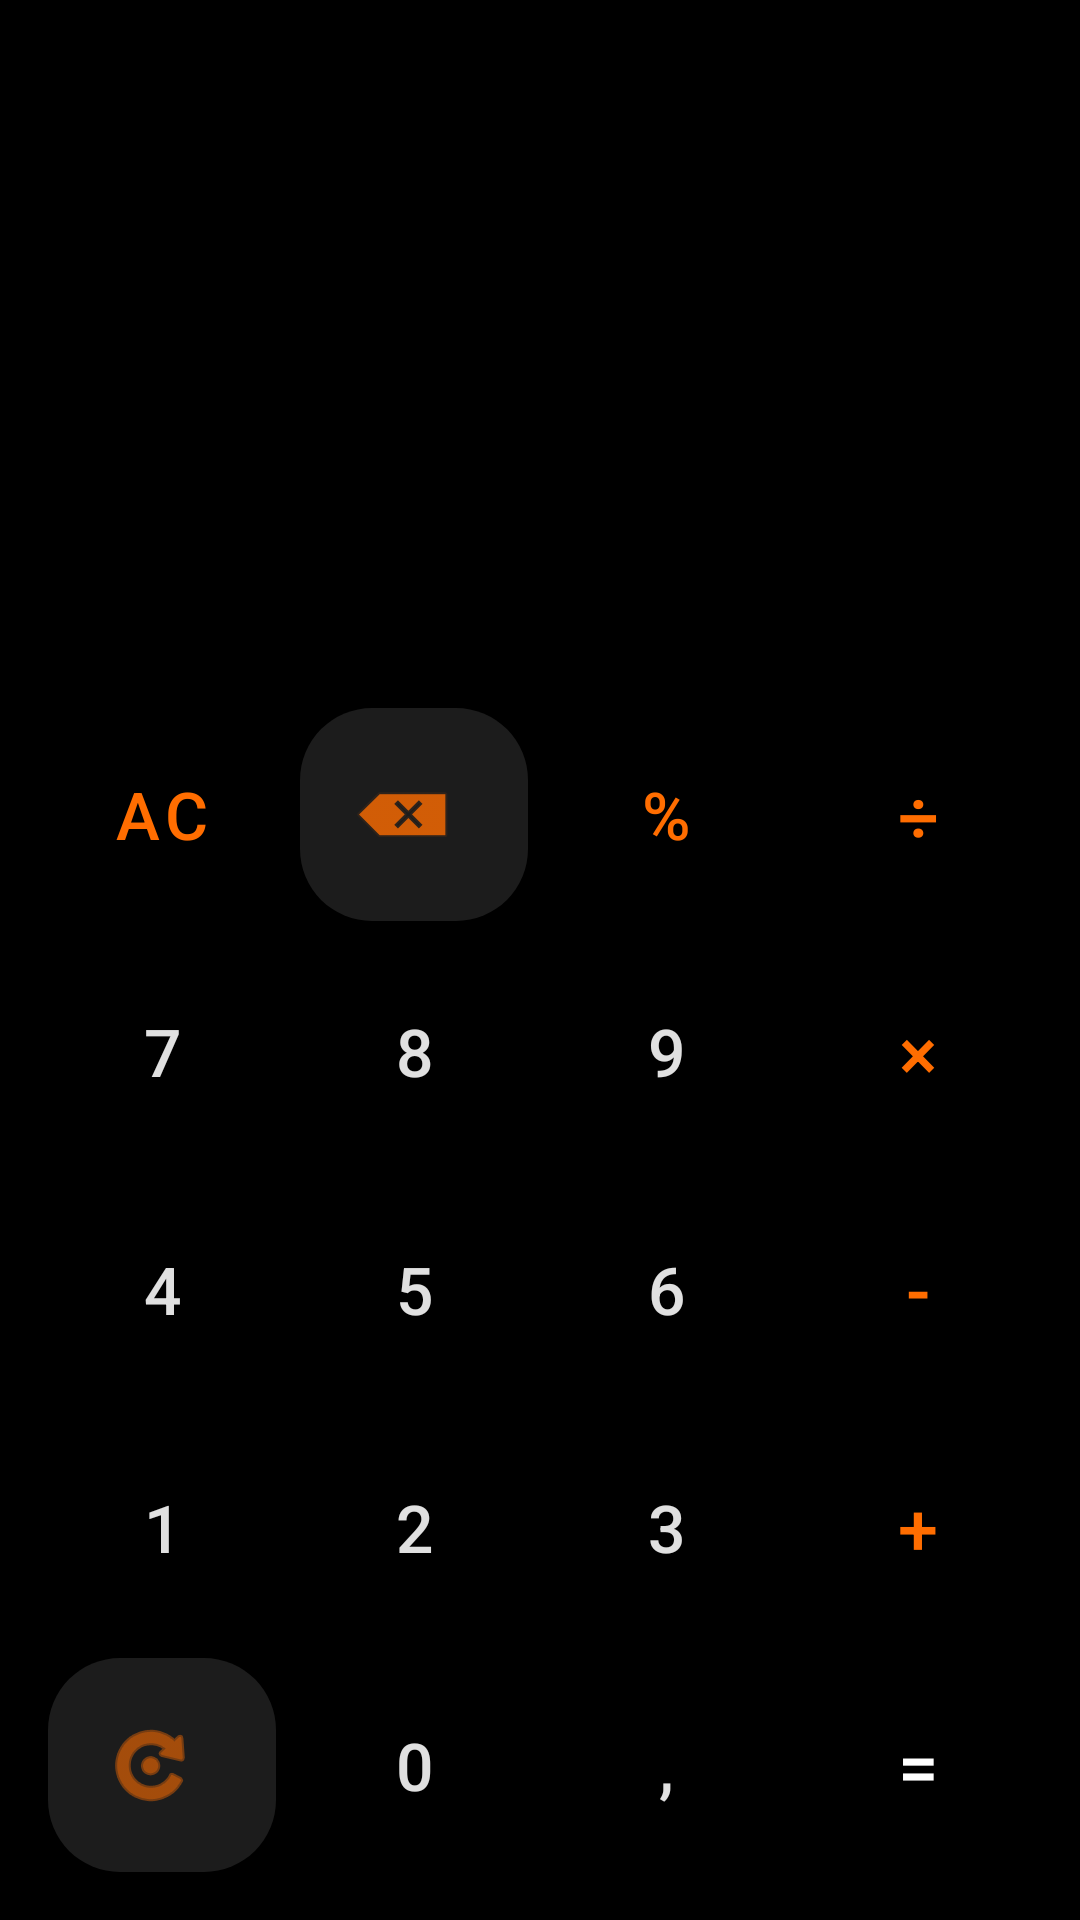

Icon bounding boxes for this 1080 x 1920 phone screenshot, format box=[x1, y1, x2, y2]:
Стереть символ: box=[300, 708, 528, 921]
